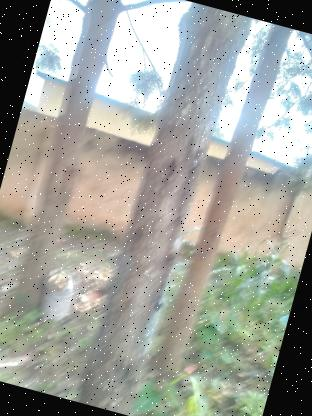tree: (66, 0, 250, 412), (146, 16, 291, 394), (0, 0, 144, 324)
